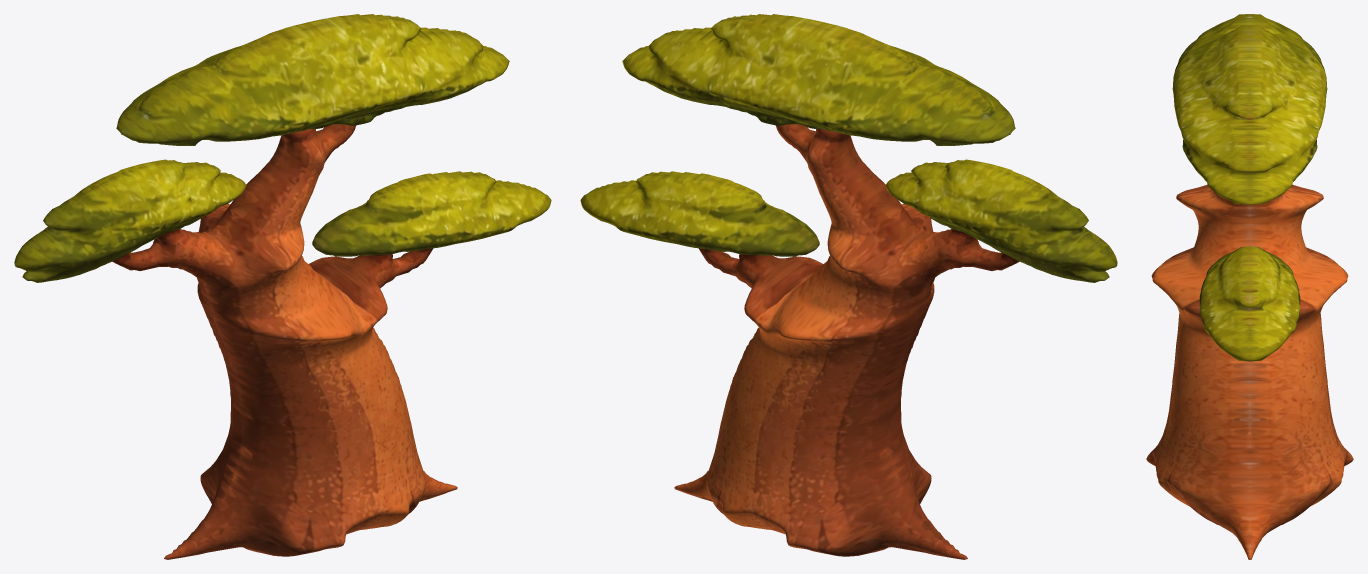
Rendered from 24_trees_c_r01_c01.glb.
3 views of the same model, side by side, from view 1: azimuth 30°, elevation 25°; view 2: azimuth 150°, elevation 25°; view 3: azimuth 270°, elevation 25° (orthographic). The views are drawn at different scales.
Parts seen in each view (by area): view 1: 24_trees_c_r01_c01; view 2: 24_trees_c_r01_c01; view 3: 24_trees_c_r01_c01.
Boxes of the visible parts, <box> form: 24_trees_c_r01_c01: <box>14,14,551,559</box>; 24_trees_c_r01_c01: <box>580,14,1117,559</box>; 24_trees_c_r01_c01: <box>1146,14,1353,559</box>.
Size of the model in its own units: 5.74 by 5.15 by 2.15.
Materials: 1 (1 with a texture image).
